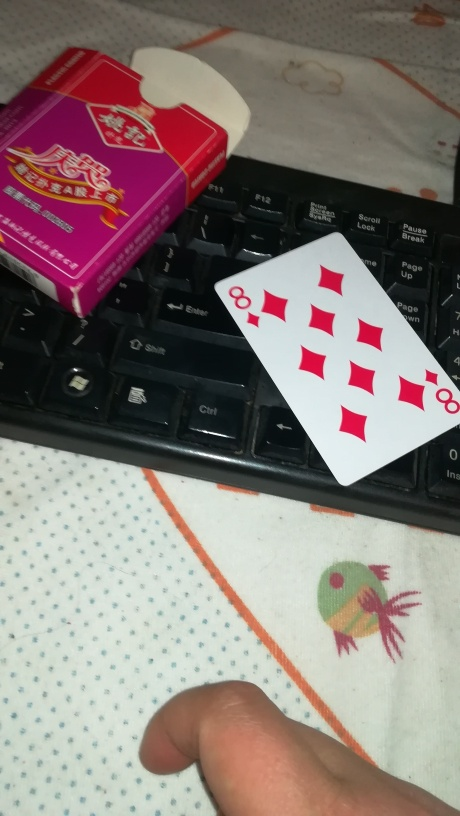fk 8: (210, 229, 460, 488)
